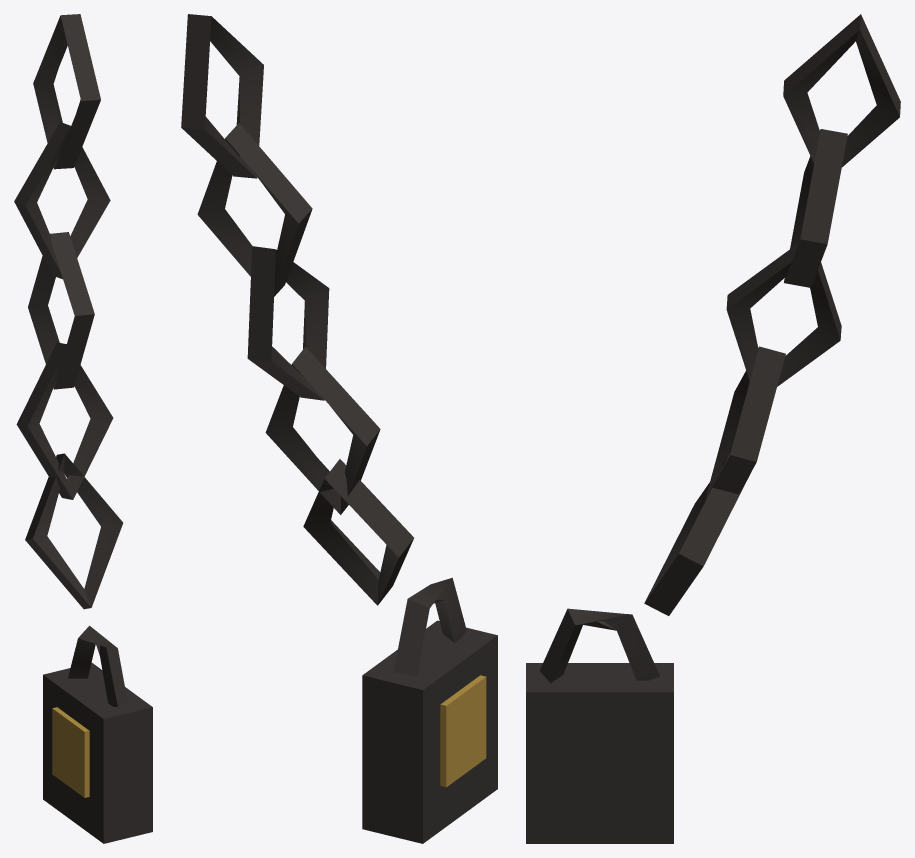
The model's file is dressing_chain_mobile.glb.
3 views of the same model, side by side, from view 1: azimuth 30°, elevation 25°; view 2: azimuth 150°, elevation 25°; view 3: azimuth 270°, elevation 25° (orthographic). The views are drawn at different scales.
Visible parts, largest first — view 1: dressing_chain_mobile; view 2: dressing_chain_mobile; view 3: dressing_chain_mobile.
Part boxes in pixels (bbox=[...]): dressing_chain_mobile: bbox=[14, 14, 152, 843]; dressing_chain_mobile: bbox=[181, 14, 497, 843]; dressing_chain_mobile: bbox=[526, 14, 900, 843].
Bounding box in the file's own units: 0.0391 × 0.2112 × 0.0837.
